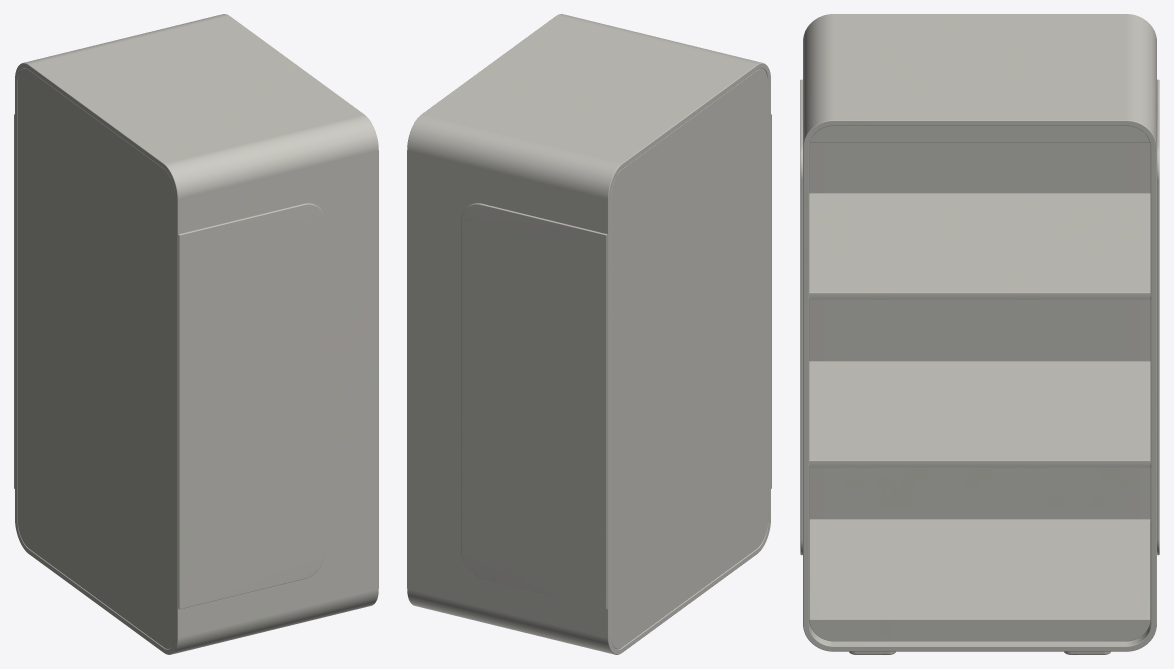
Rendered from cabinet_file_d02.glb.
3 renders of one model, left to right at view 1: azimuth 30°, elevation 25°; view 2: azimuth 150°, elevation 25°; view 3: azimuth 270°, elevation 25°, orthographic. The views are drawn at different scales.
Visible parts, largest first — view 1: body_01_mesh_00; view 2: body_01_mesh_00; view 3: body_01_mesh_00.
Boxes of the visible parts, x1,y1,x2,y2 form: body_01_mesh_00: [14, 14, 378, 654]; body_01_mesh_00: [407, 14, 771, 654]; body_01_mesh_00: [800, 14, 1159, 654].
Bounding box in the file's own units: 0.3724 × 0.8768 × 0.5293.
Materials: 2 (2 with a texture image).
